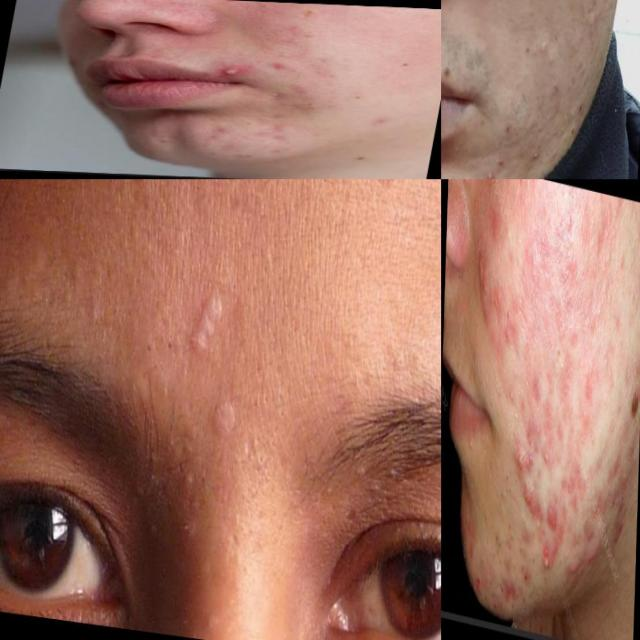6: (582, 539, 602, 581), (560, 555, 582, 583)
8: (499, 323, 514, 355)
9: (210, 62, 250, 80), (539, 544, 554, 576), (474, 162, 498, 179), (533, 418, 544, 440), (542, 447, 550, 469)
blackheads: (470, 247, 493, 339), (253, 117, 303, 144), (261, 84, 295, 108), (522, 481, 540, 522), (514, 442, 536, 473), (254, 58, 302, 72), (546, 506, 558, 534)
dark spot: (131, 322, 157, 373), (159, 329, 179, 375), (492, 527, 503, 562), (504, 520, 516, 550), (508, 474, 520, 502), (511, 411, 522, 438), (497, 485, 507, 512), (516, 542, 525, 562), (486, 576, 494, 596), (503, 467, 511, 485), (499, 578, 505, 600), (505, 500, 512, 518), (521, 591, 527, 610), (530, 551, 537, 567), (530, 524, 536, 540), (509, 599, 515, 613), (520, 561, 525, 577)
